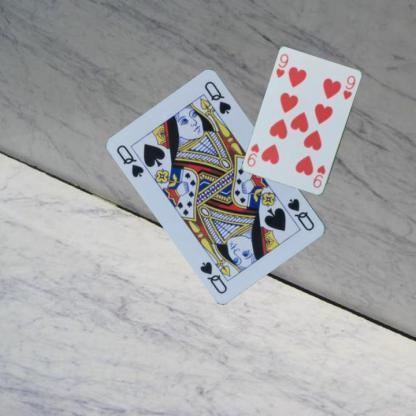9h: (311, 162, 327, 190), (274, 52, 290, 80)
Qs: (113, 142, 146, 179), (285, 196, 316, 232)
